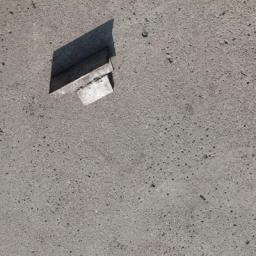FOD: (48, 46, 125, 107)
